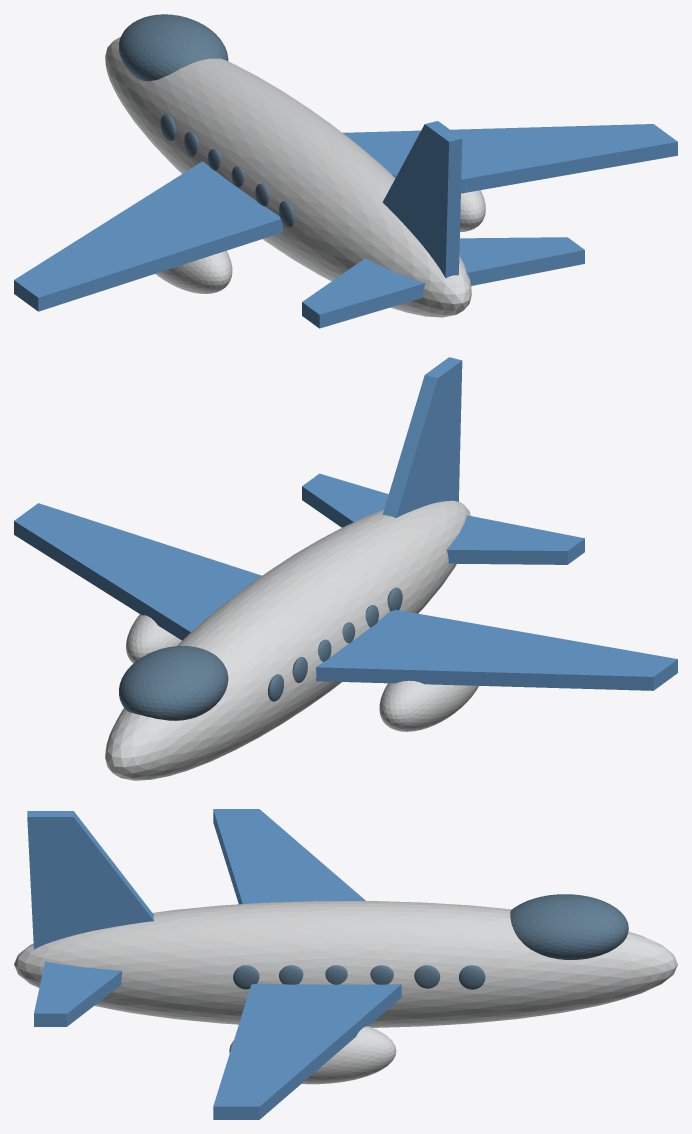
File: airliner.glb
3 renders of one model, top to bottom at view 1: azimuth 30°, elevation 25°; view 2: azimuth 150°, elevation 25°; view 3: azimuth 270°, elevation 25°, orthographic. The views are drawn at different scales.
Visible parts, largest first — view 1: Airliner; view 2: Airliner; view 3: Airliner.
Part boxes in pixels (x1,y1,x2,y2): Airliner: (14,14,677,328); Airliner: (14,357,677,780); Airliner: (14,809,677,1119).
Bounding box in the file's own units: 5.3 × 1.73 × 5.
